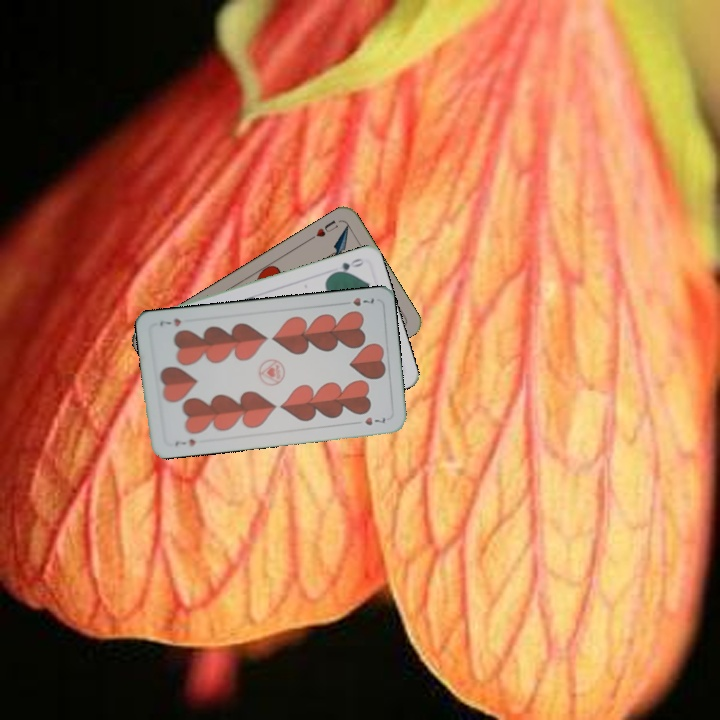GO: (328, 254, 366, 277)
H7: (338, 293, 376, 309), (171, 435, 198, 449)
HU: (306, 216, 341, 243)
